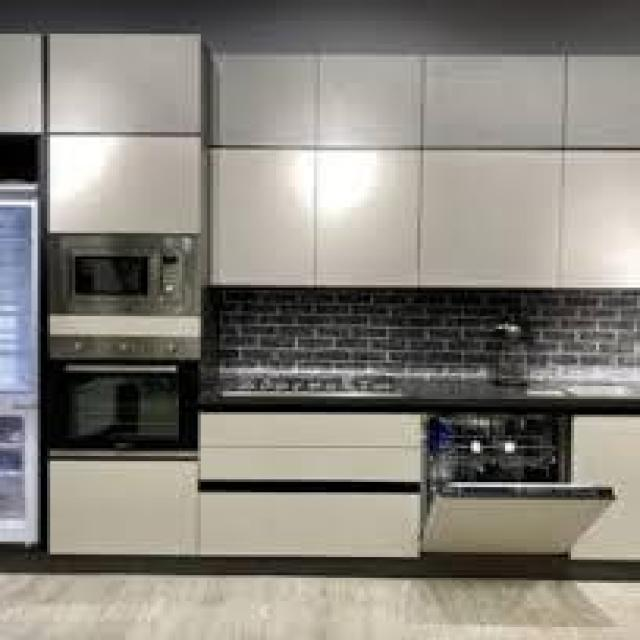dishwasher: (408, 404, 612, 555)
